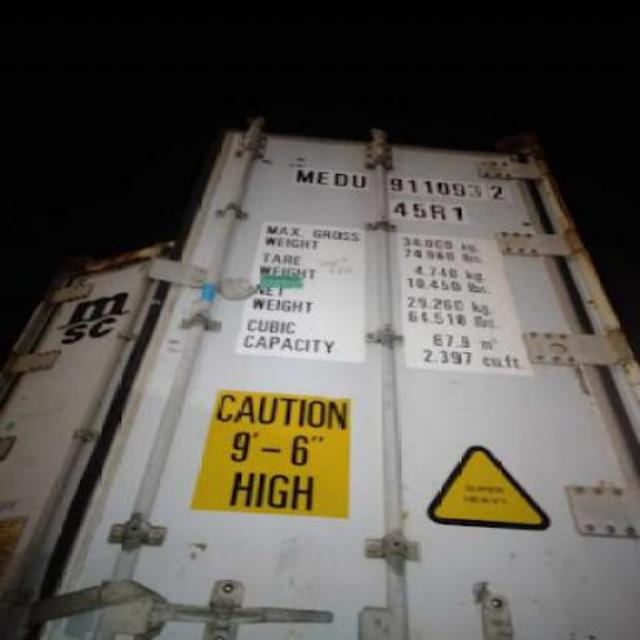0: (438, 182, 452, 196)
1: (402, 172, 422, 190), (422, 174, 436, 196)
2: (490, 180, 518, 204)
3: (468, 180, 492, 204)
9: (450, 175, 468, 201), (384, 175, 404, 193)
D: (334, 170, 350, 193)
E: (314, 170, 330, 186)
M: (290, 164, 314, 186)
U: (348, 165, 366, 189)
